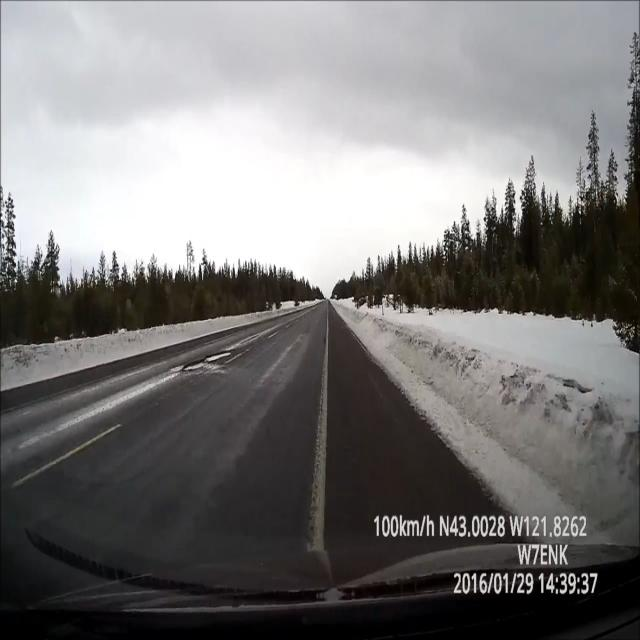Pothole: (177, 337, 235, 378)
